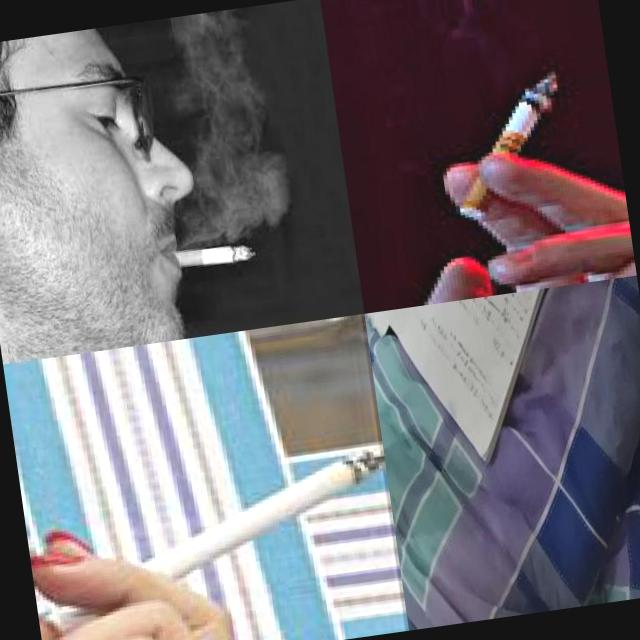cigarette: (35, 441, 403, 638), (446, 63, 586, 215), (162, 239, 256, 274)
